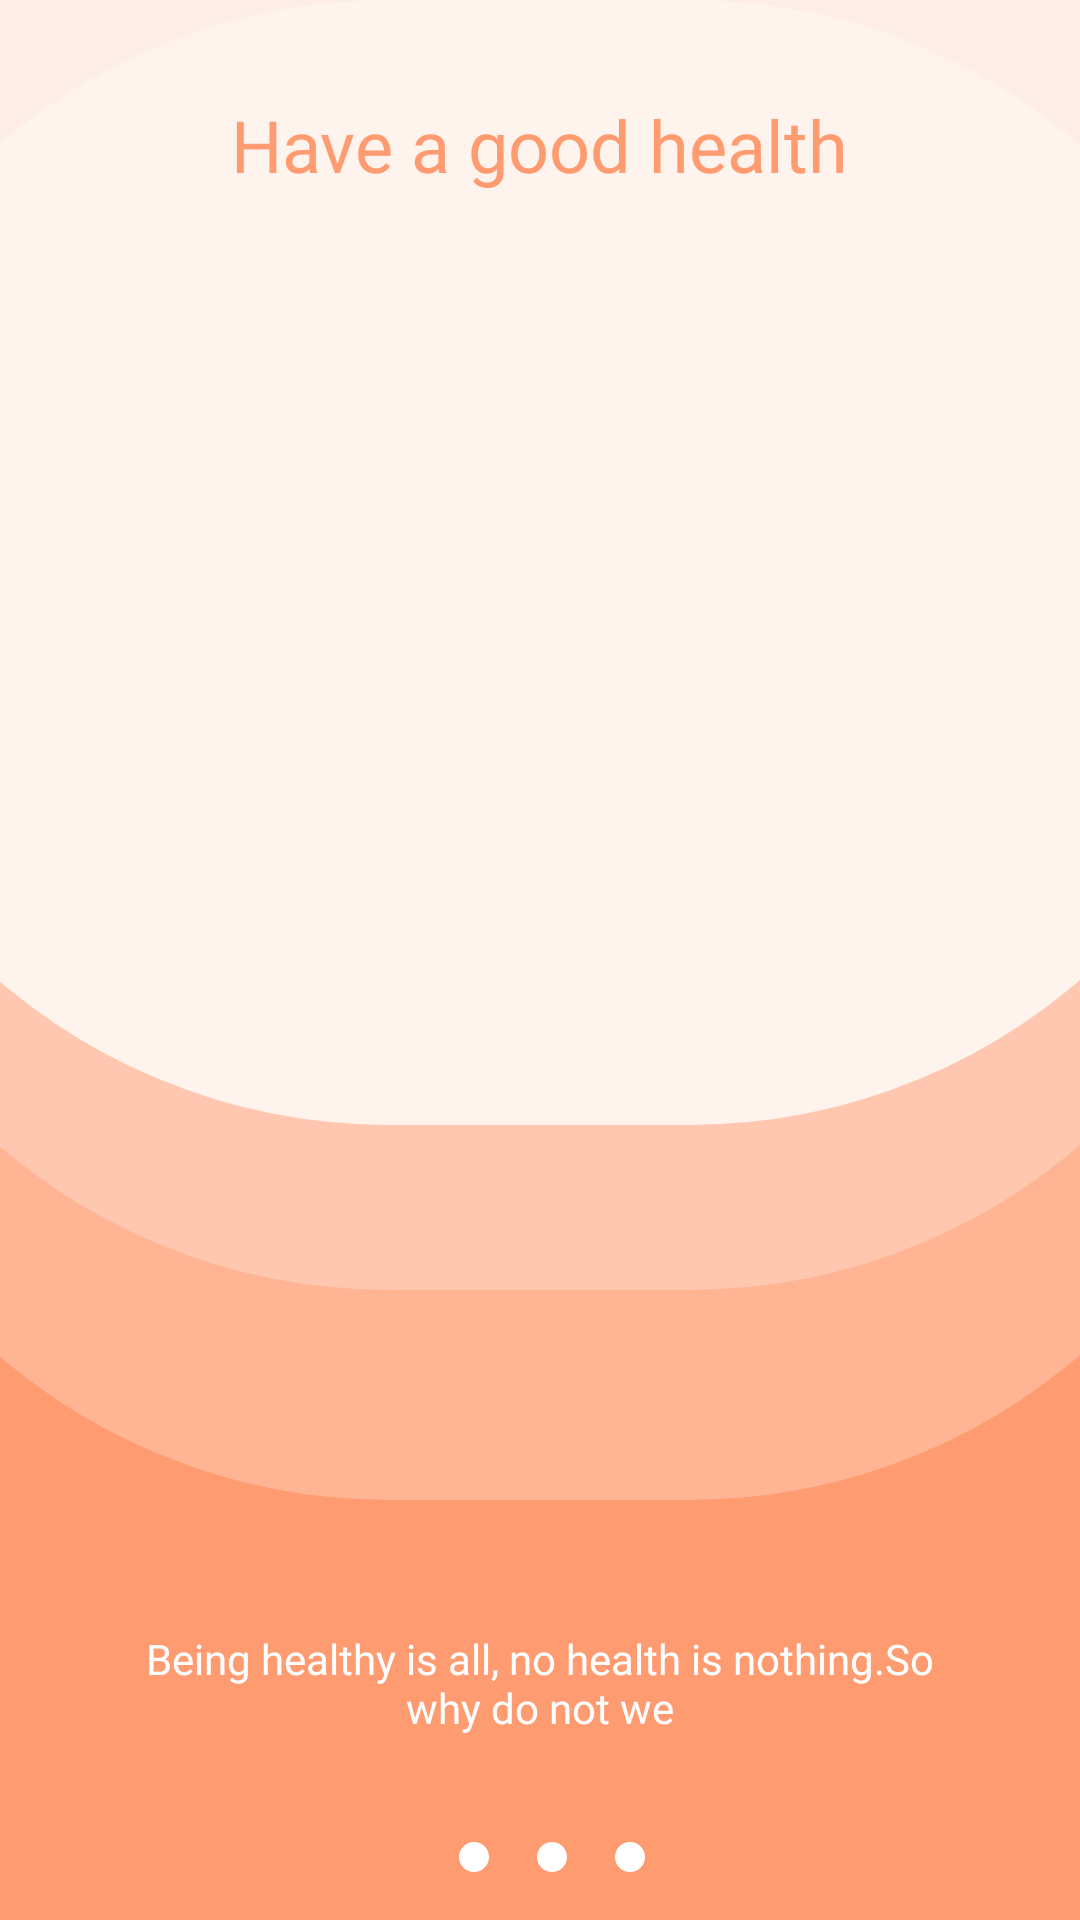

Where icons sit on this 1080x1920 app screen, as (left=x1, top=y1, right=x2, bottom=y2):
indicator: (left=459, top=1842, right=489, bottom=1872), (left=537, top=1842, right=567, bottom=1872), (left=615, top=1842, right=645, bottom=1872)
